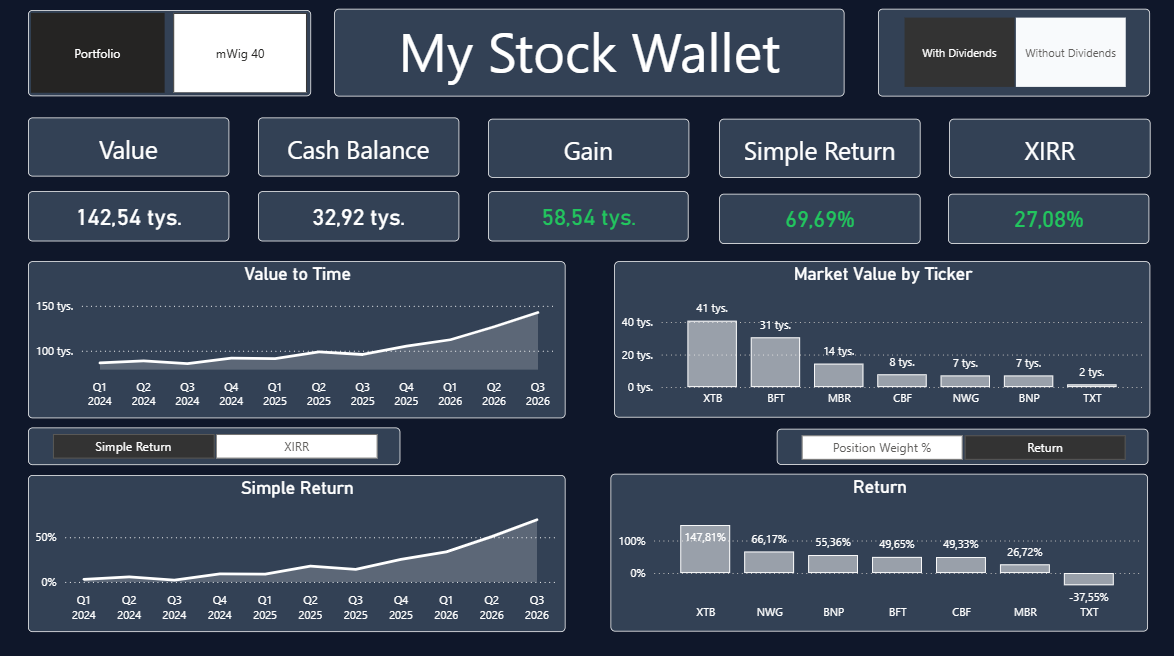

What the dashboard file says about the page in this screenshot:
{"tool":"powerbi","page":{"name":"Portfolio","canvas":[1280,720],"ordinal":0},"visuals":[{"type":"card","fields":{"Values":[" Measures_.Selected Portfolio Value"]},"box":[32,213.3,218,54.2],"z":0},{"type":"slicer","fields":{"Values":["Dividend View.View"]},"box":[954.4,14.6,295.2,95],"z":1000},{"type":"textbox","box":[365.4,14.6,553.9,95],"z":2000},{"type":"textbox","box":[32,132.7,218,64],"z":3000},{"type":"card","fields":{"Values":[" Measures_.Selected Cash Balance"]},"box":[282,213.3,218,54],"z":4000},{"type":"textbox","box":[282,132.7,218,64],"z":5000},{"type":"card","fields":{"Values":[" Measures_.Selected Portfolio Gain"]},"box":[532.2,213,217.3,54],"z":6000},{"type":"textbox","box":[532,134.5,218,64],"z":7000},{"type":"card","fields":{"Values":[" Measures_.Selected Simple Return %"]},"box":[782,215.1,218,54],"z":8000},{"type":"textbox","box":[782,134.2,218.3,64],"z":9000},{"type":"card","fields":{"Values":[" Measures_.Selected Portfolio Return %"]},"box":[1030.7,215.6,218.4,54.2],"z":10000},{"type":"textbox","box":[1032.1,134.3,218.4,63.7],"z":11000},{"type":"pageNavigator","box":[32.2,16.1,306.9,93.5],"z":12000},{"type":"areaChart","title":"Value to Time","fields":{"Category":["DimDate.Quarter Year EN"],"Y":[" Measures_.Portfolio Value Quarter End"]},"box":[32.1,288.7,583.3,170.6],"z":13000},{"type":"areaChart","fields":{"Category":["DimDate.Quarter Year EN"],"Y":[" Measures_.Portfolio Return Quarter End"]},"box":[32.3,521,582.9,170],"z":14000},{"type":"slicer","fields":{"Values":["Return View.View"]},"box":[32.5,469.3,404.2,40.7],"z":15000},{"type":"clusteredColumnChart","fields":{"Y":["Measures_Portfolio.Selected Return by Ticker"],"Category":["DimCompany.Ticker"]},"box":[665,518.8,583.1,171],"z":16000},{"type":"clusteredColumnChart","title":"Market Value by Ticker","fields":{"Category":["DimCompany.Ticker"],"Y":[" Measures_.Market Value"]},"box":[668.6,288.9,581.8,169.5],"z":17000},{"type":"slicer","fields":{"Values":["Position View.Position View"]},"box":[844.8,470.6,403.4,39.5],"z":18000}]}

Visuals, with their boxes in screenshot pixels (x1, y1, x2, y2), scaled from the page's 1280x720 canvas onto the 1174x656 screenshot:
card -  Measures_.Selected Portfolio Value: locate(29, 194, 229, 244)
slicer - Dividend View.View: locate(875, 13, 1146, 100)
textbox: locate(335, 13, 843, 100)
textbox: locate(29, 121, 229, 179)
card -  Measures_.Selected Cash Balance: locate(259, 194, 459, 244)
textbox: locate(259, 121, 459, 179)
card -  Measures_.Selected Portfolio Gain: locate(488, 194, 687, 243)
textbox: locate(488, 123, 688, 181)
card -  Measures_.Selected Simple Return %: locate(717, 196, 917, 245)
textbox: locate(717, 122, 917, 181)
card -  Measures_.Selected Portfolio Return %: locate(945, 196, 1146, 246)
textbox: locate(947, 122, 1147, 180)
pageNavigator: locate(30, 15, 311, 100)
"Value to Time" areaChart: locate(29, 263, 564, 418)
areaChart - DimDate.Quarter Year EN x  Measures_.Portfolio Return Quarter End: locate(30, 475, 564, 630)
slicer - Return View.View: locate(30, 428, 401, 465)
clusteredColumnChart - Measures_Portfolio.Selected Return by Ticker x DimCompany.Ticker: locate(610, 473, 1145, 628)
"Market Value by Ticker" clusteredColumnChart: locate(613, 263, 1147, 418)
slicer - Position View.Position View: locate(775, 429, 1145, 465)
